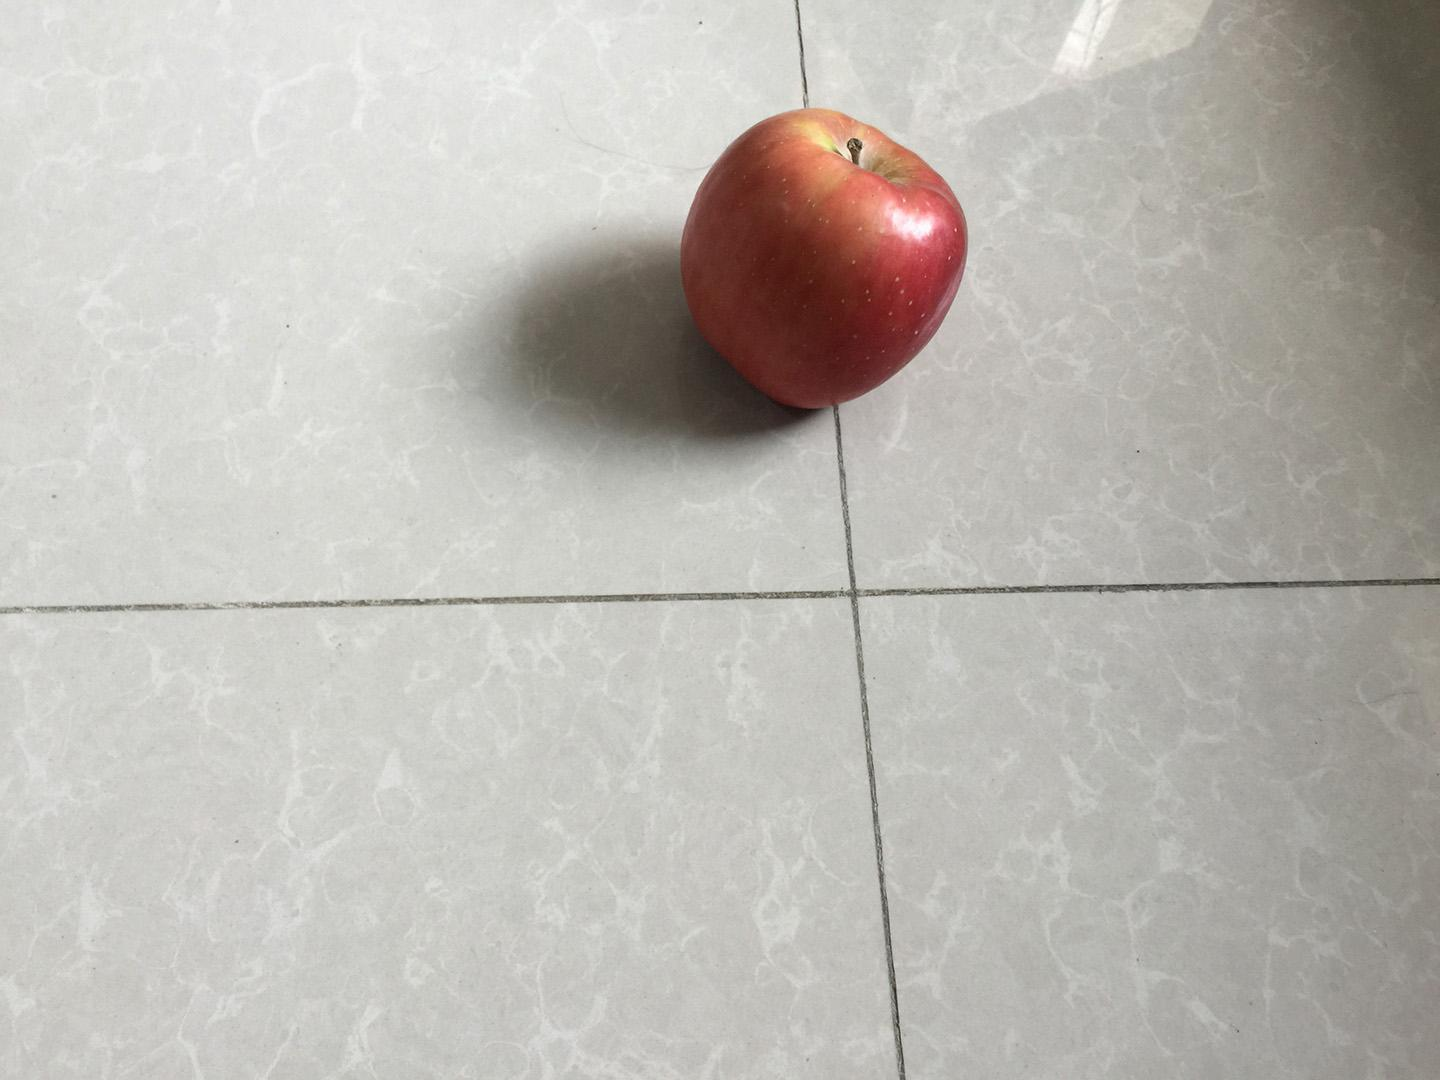apple: (674, 98, 973, 420)
